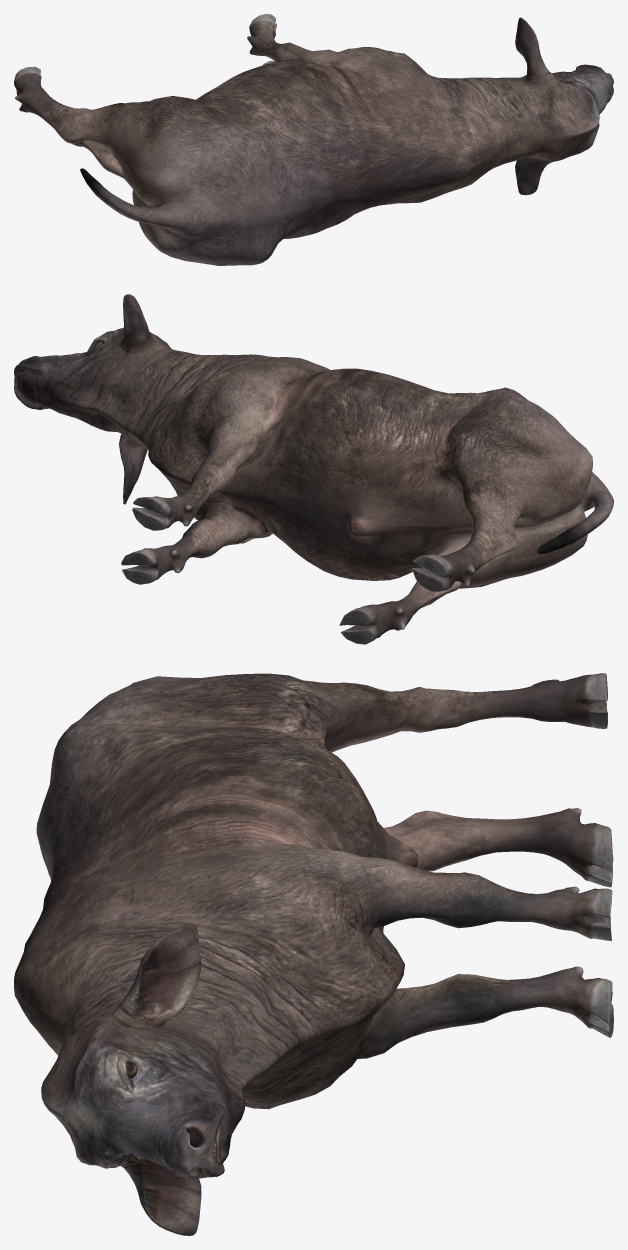
Rendered from buffalo_v01_part_02.obj.
3 views of the same model, one above another, from view 1: azimuth 30°, elevation 25°; view 2: azimuth 150°, elevation 25°; view 3: azimuth 270°, elevation 25° (orthographic). The views are drawn at different scales.
Parts seen in each view (by area): view 1: buffalo_v01_part_02; view 2: buffalo_v01_part_02; view 3: buffalo_v01_part_02.
Part boxes in pixels (x1,y1,x2,y2): buffalo_v01_part_02: (14,14,613,265); buffalo_v01_part_02: (14,294,613,644); buffalo_v01_part_02: (14,673,613,1235).
Size of the model in its own units: 2.87 by 0.973 by 1.7.
1 material, 1 textured.
